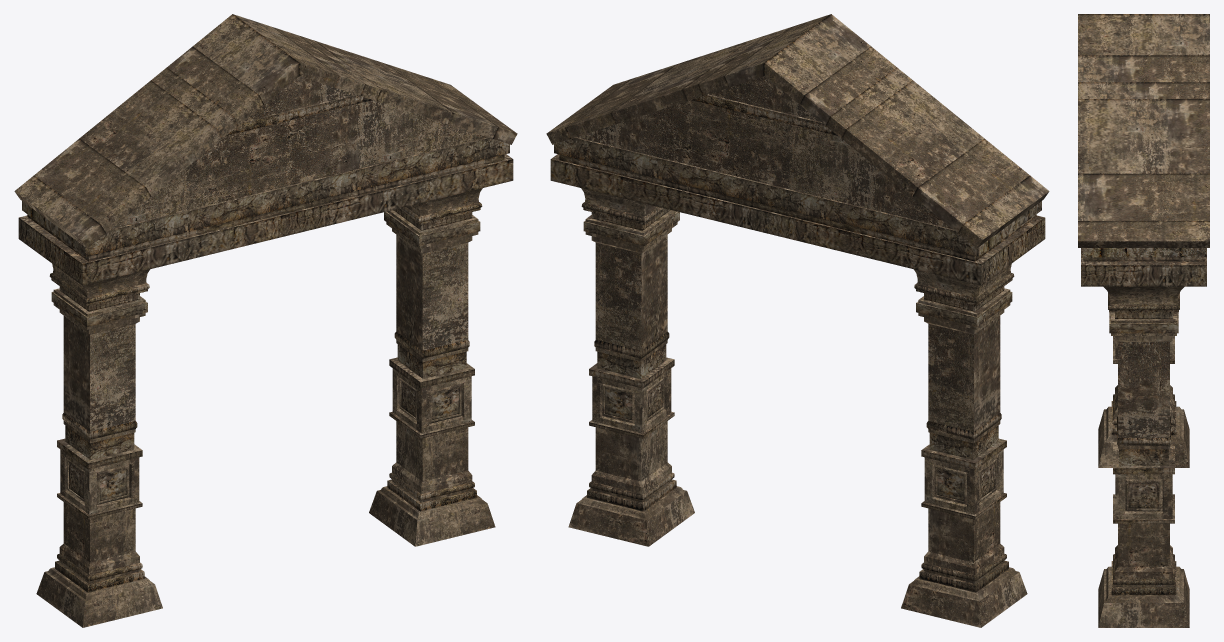
Rendered from materials_5_gate_2.fbx.
The picture shows the model from 3 angles, left to right: view 1: azimuth 30°, elevation 25°; view 2: azimuth 150°, elevation 25°; view 3: azimuth 270°, elevation 25°; orthographic projection.
Visible parts, largest first — view 1: materials_5_gate_2; view 2: materials_5_gate_2; view 3: materials_5_gate_2.
Part boxes in pixels (x1,y1,x2,y2): materials_5_gate_2: [14, 14, 517, 627]; materials_5_gate_2: [546, 14, 1049, 627]; materials_5_gate_2: [1078, 14, 1209, 627].
Bounding box in the file's own units: 617 × 705 × 164.
